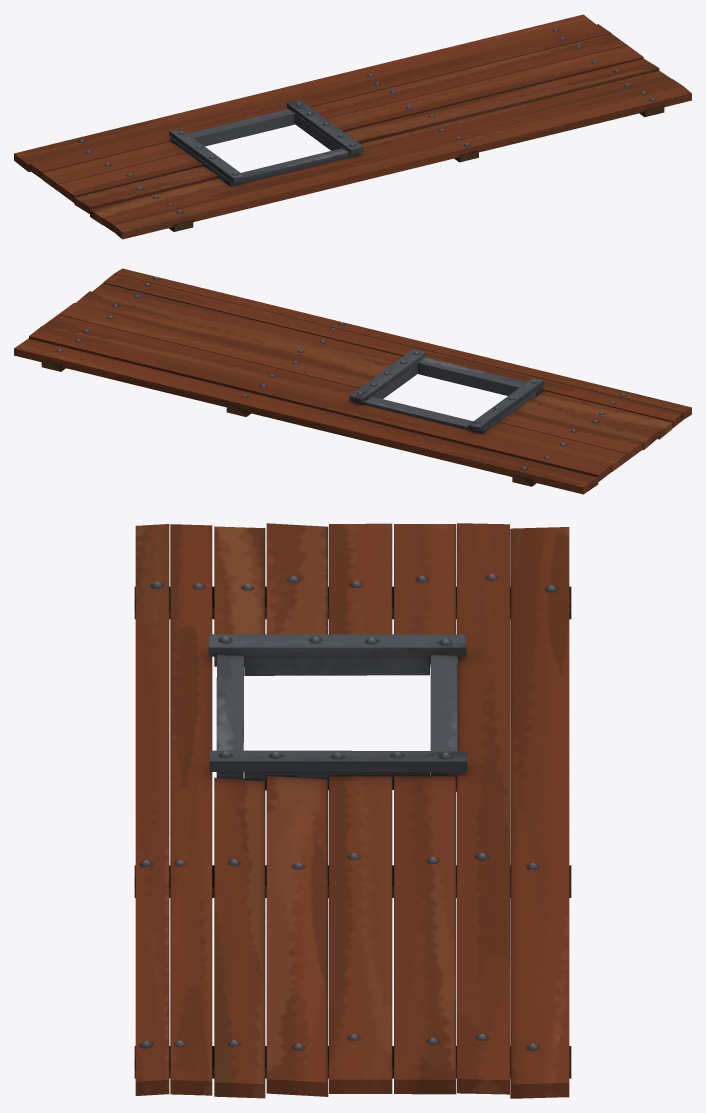
File: 2P_SolEtage-Trou.FBX
3 renders of one model, top to bottom at view 1: azimuth 30°, elevation 25°; view 2: azimuth 150°, elevation 25°; view 3: azimuth 270°, elevation 25°, orthographic. The views are drawn at different scales.
Visible parts, largest first — view 1: 2P_SolEtage-Trou; view 2: 2P_SolEtage-Trou; view 3: 2P_SolEtage-Trou.
Boxes of the visible parts, x1,y1,x2,y2 form: 2P_SolEtage-Trou: (14,14,691,239); 2P_SolEtage-Trou: (14,268,691,494); 2P_SolEtage-Trou: (134,523,571,1098).
Bounding box in the file's own units: 30.11 × 1.16 × 10.
